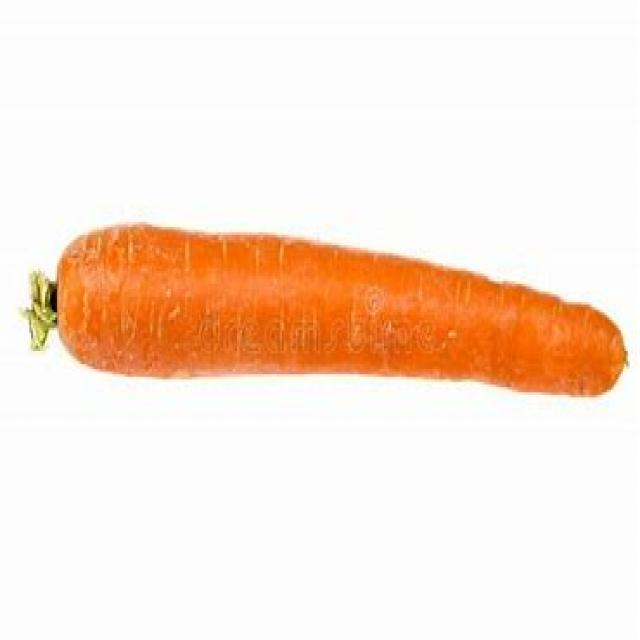Carrot: (55, 227, 632, 402)
